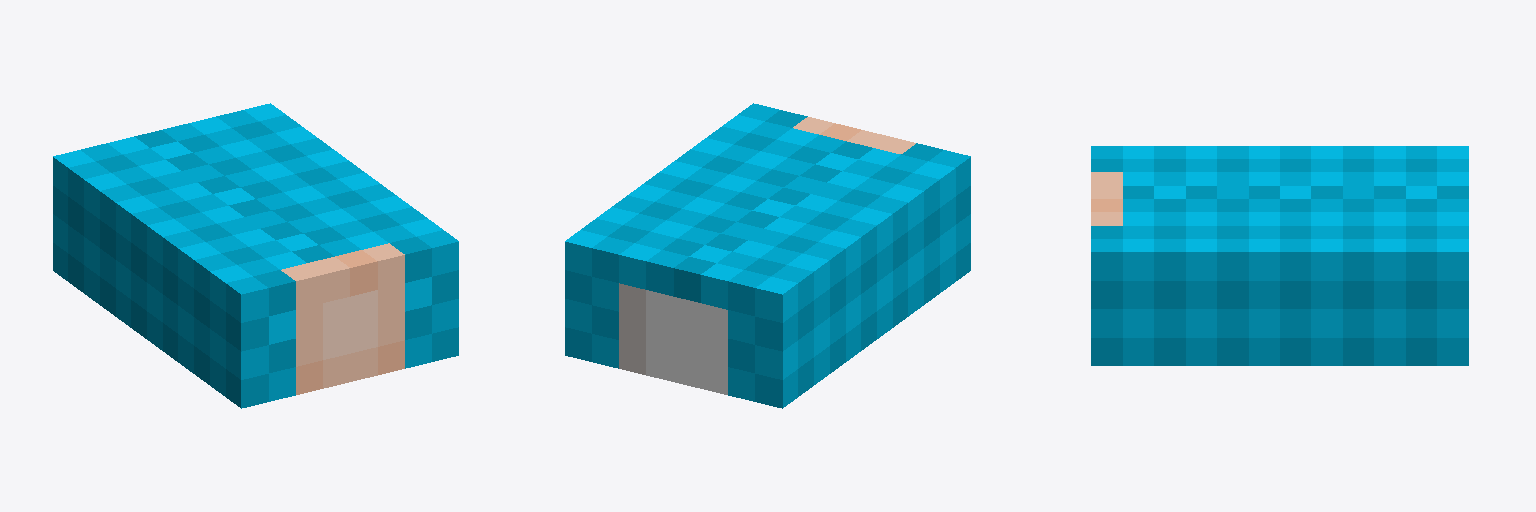
3 views of the same model, side by side, from view 1: azimuth 30°, elevation 25°; view 2: azimuth 150°, elevation 25°; view 3: azimuth 270°, elevation 25° (orthographic).
Parts seen in each view (by area): view 1: object 1; view 2: object 1; view 3: object 1.
Boxes of the visible parts, <box> form: object 1: <box>53,103,458,408</box>; object 1: <box>565,103,970,408</box>; object 1: <box>1091,146,1468,365</box>.
Bounding box in the file's own units: 0.8 × 0.4 × 1.2.
1 materials, 1 textured.